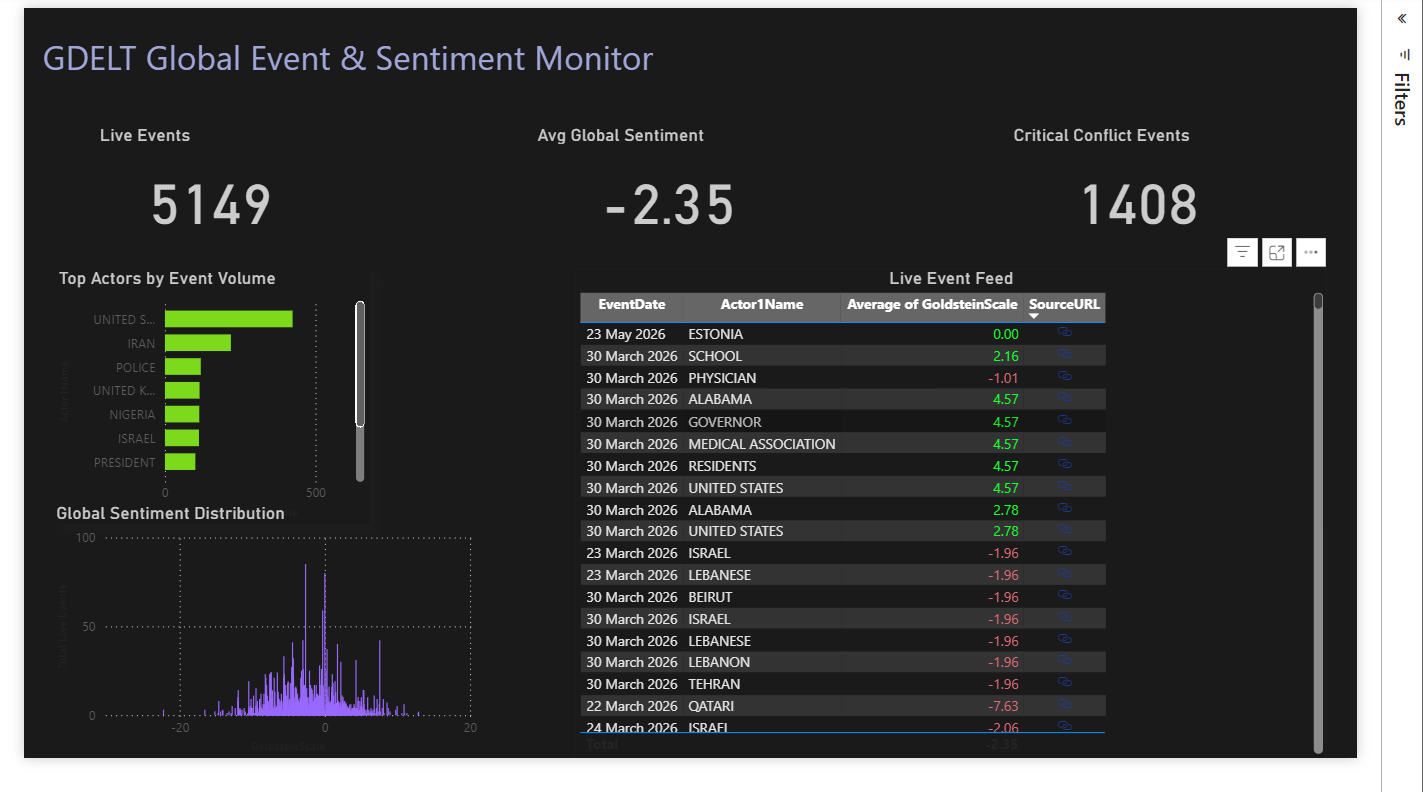

What the dashboard file says about the page in this screenshot:
{"tool":"powerbi","page":{"name":"Page 1","canvas":[1280,720],"ordinal":0},"visuals":[{"type":"card","title":"Live Events ","fields":{"Values":["gdelt_live_events.Total Live Events"]},"box":[68.3,111.7,221.7,120],"z":0},{"type":"card","title":"Avg Global Sentiment","fields":{"Values":["gdelt_live_events.Avg Global Sentiment"]},"box":[488.3,111.7,261.7,120],"z":1000},{"type":"card","title":"Critical Conflict Events","fields":{"Values":["gdelt_live_events.Critical Conflict Events"]},"box":[945,111.7,248.3,120],"z":2000},{"type":"clusteredBarChart","title":"Top Actors by Event Volume","fields":{"Category":["gdelt_live_events.Actor1Name"],"Y":["gdelt_live_events.Total Live Events"]},"box":[28.3,250,303.3,245],"z":3000},{"type":"clusteredColumnChart","title":"Global Sentiment Distribution","fields":{"Category":["gdelt_live_events.GoldsteinScale"],"Y":["gdelt_live_events.Total Live Events"]},"box":[26.7,475,415,245],"z":4000},{"type":"tableEx","title":"Live Event Feed","fields":{"Values":["gdelt_live_events.EventDate","gdelt_live_events.Actor1Name","Avg(gdelt_live_events.GoldsteinScale)","gdelt_live_events.SourceURL"]},"box":[528.1,249.7,723.7,470.8],"z":5000},{"type":"textbox","box":[13.3,20,635,91.7],"z":6000}]}

Visuals, with their boxes in screenshot pixels (x1, y1, x2, y2):
"Live Events " card: rect(67, 95, 308, 226)
"Avg Global Sentiment" card: rect(523, 95, 807, 226)
"Critical Conflict Events" card: rect(1019, 95, 1289, 226)
"Top Actors by Event Volume" clusteredBarChart: rect(23, 246, 353, 512)
"Global Sentiment Distribution" clusteredColumnChart: rect(22, 490, 472, 756)
"Live Event Feed" tableEx: rect(566, 245, 1352, 757)
textbox: rect(7, 0, 697, 95)
